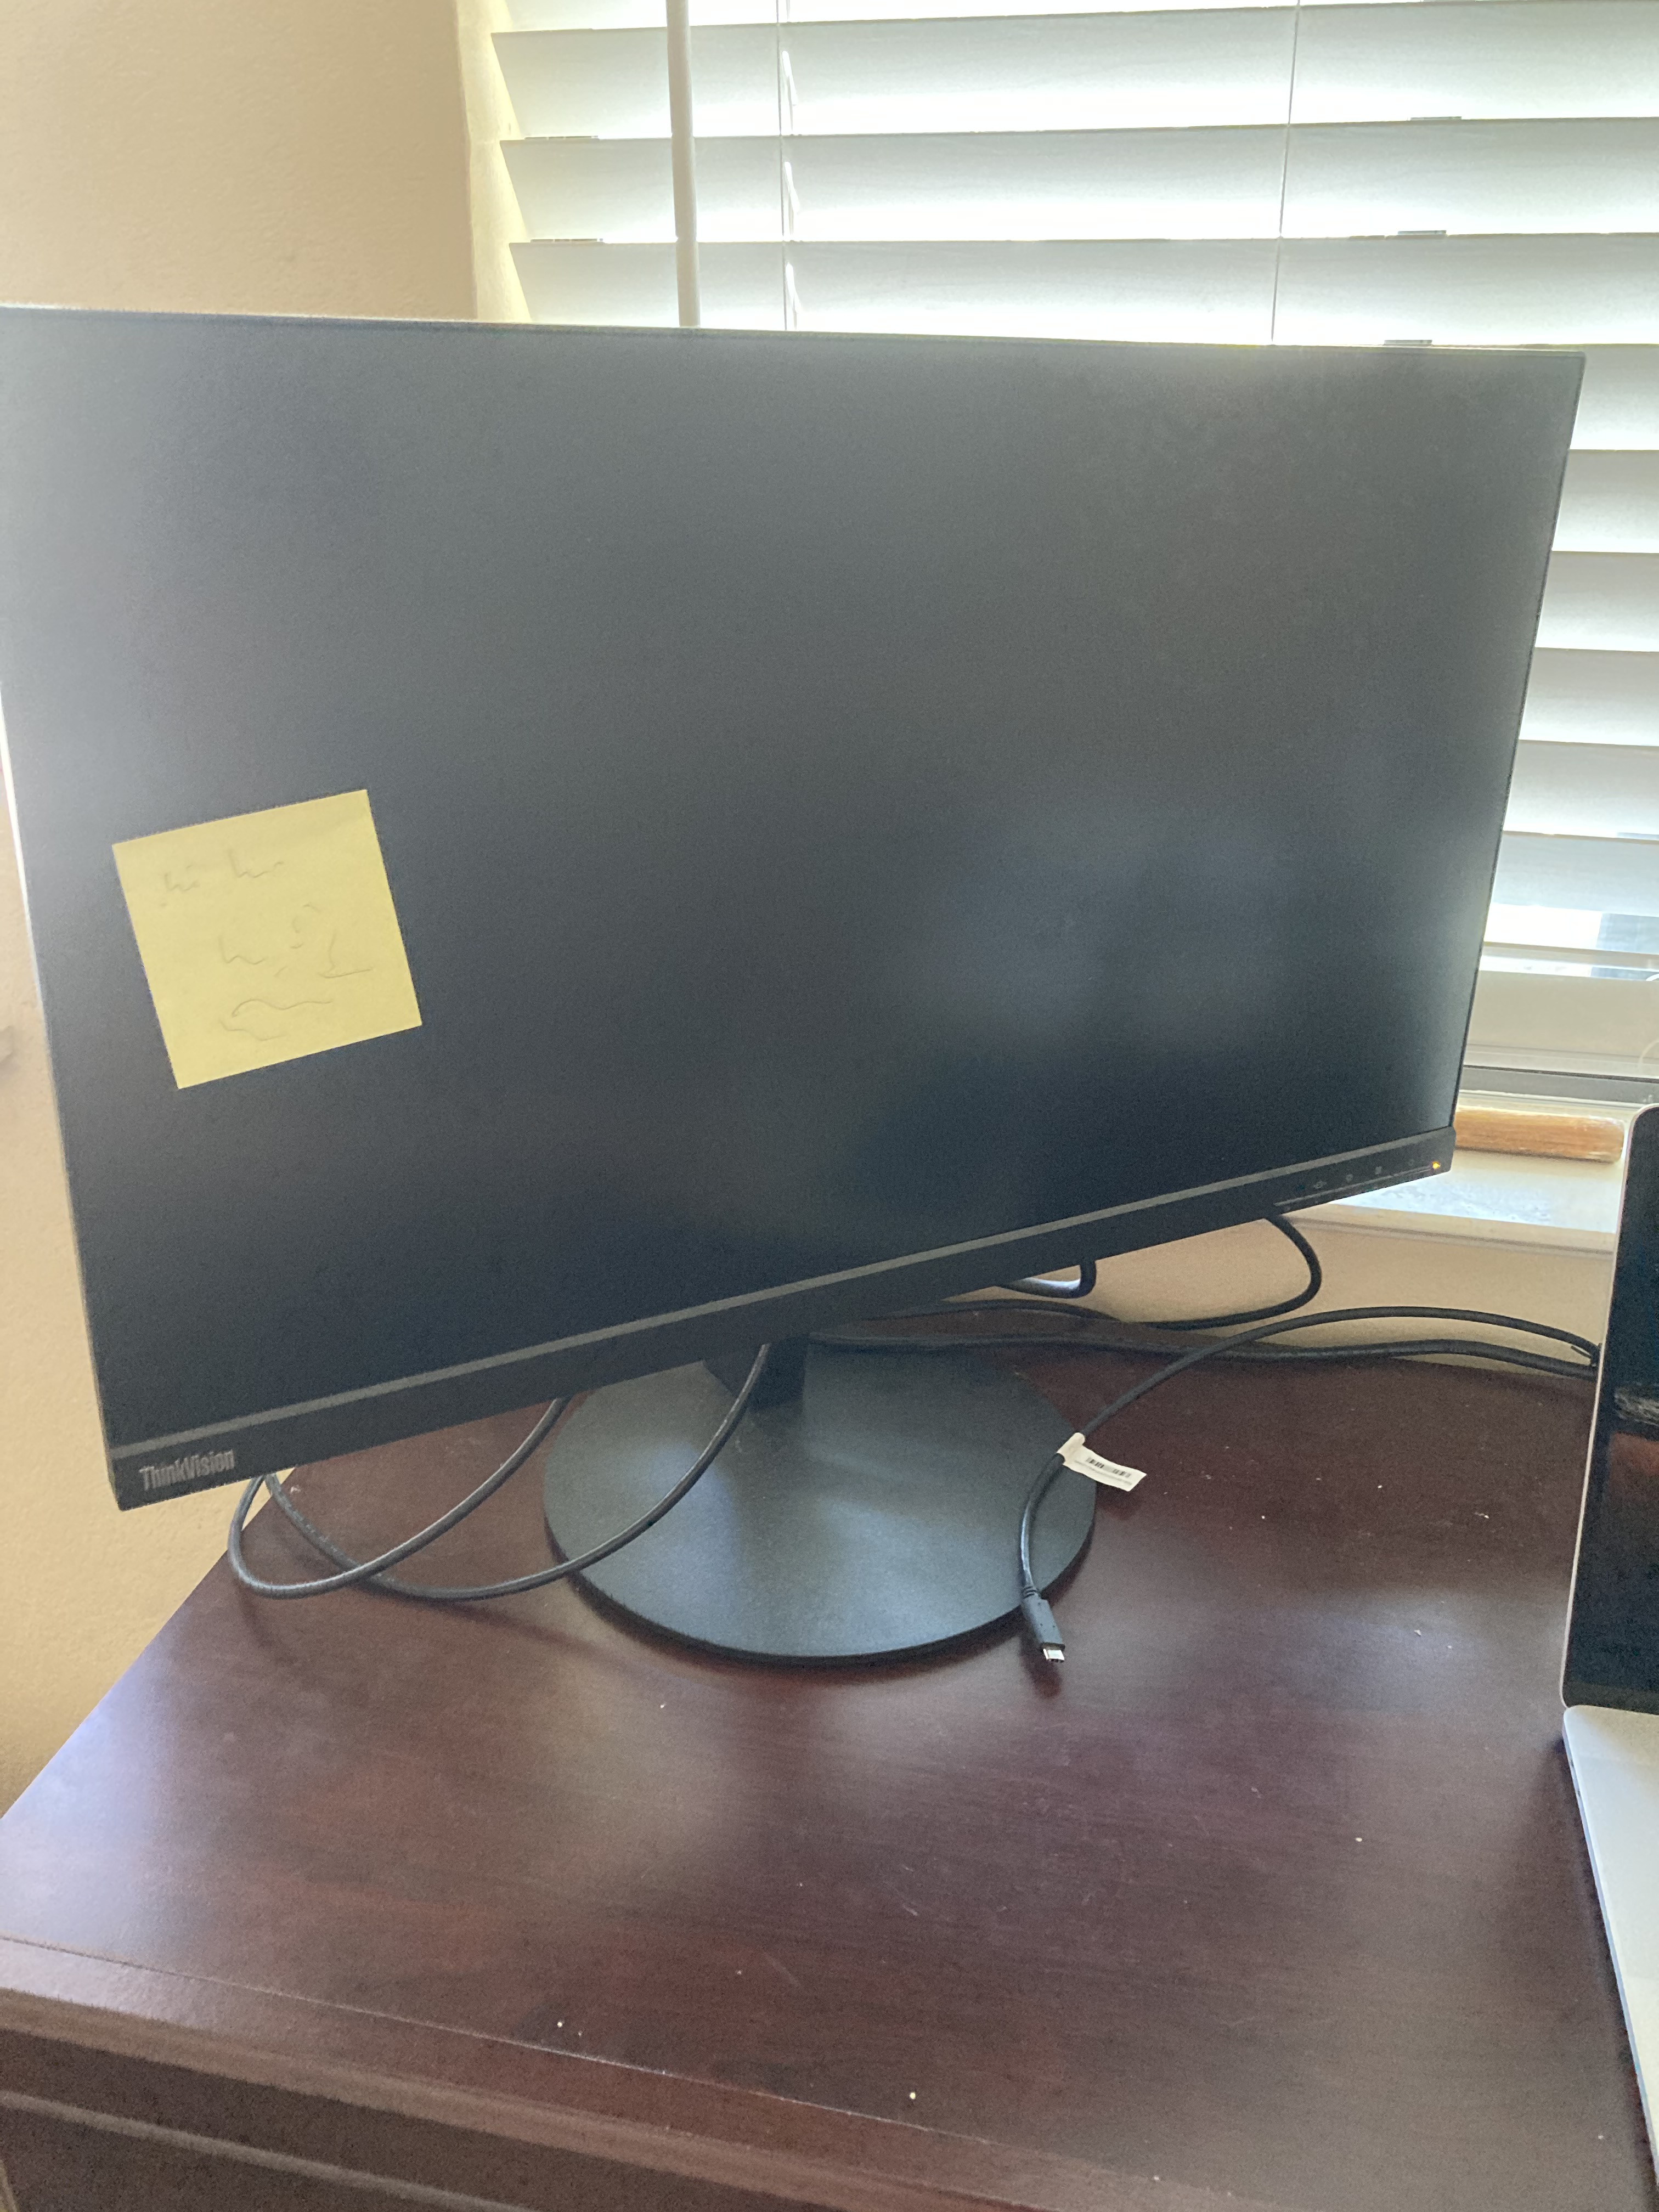Note: (106, 791, 429, 1092)
